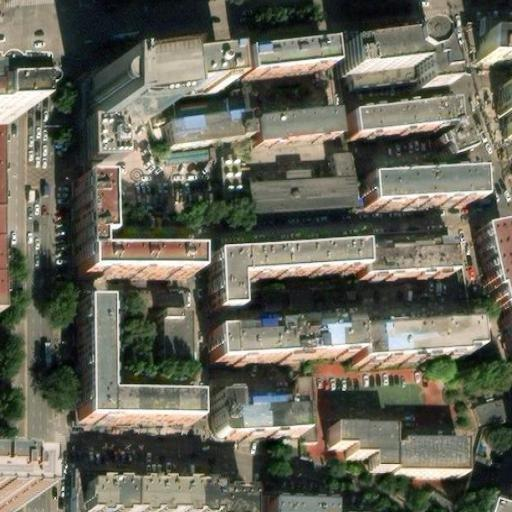building: (70, 304, 184, 427), (77, 186, 188, 288), (208, 240, 358, 307), (210, 308, 355, 357), (245, 99, 345, 159), (154, 49, 233, 118), (83, 480, 247, 512), (242, 161, 350, 207), (354, 314, 472, 356), (417, 86, 471, 168), (340, 35, 430, 78), (213, 388, 295, 434), (474, 222, 512, 318), (362, 179, 475, 211), (78, 86, 150, 136), (81, 137, 164, 180), (355, 228, 449, 265), (236, 42, 325, 79), (326, 417, 389, 468), (348, 107, 424, 144), (387, 434, 460, 470), (151, 308, 185, 367), (471, 397, 512, 429), (496, 314, 512, 394), (496, 441, 512, 512), (0, 201, 9, 325), (479, 42, 512, 66), (480, 22, 512, 43), (501, 91, 512, 150), (269, 502, 328, 512), (0, 95, 14, 136)
